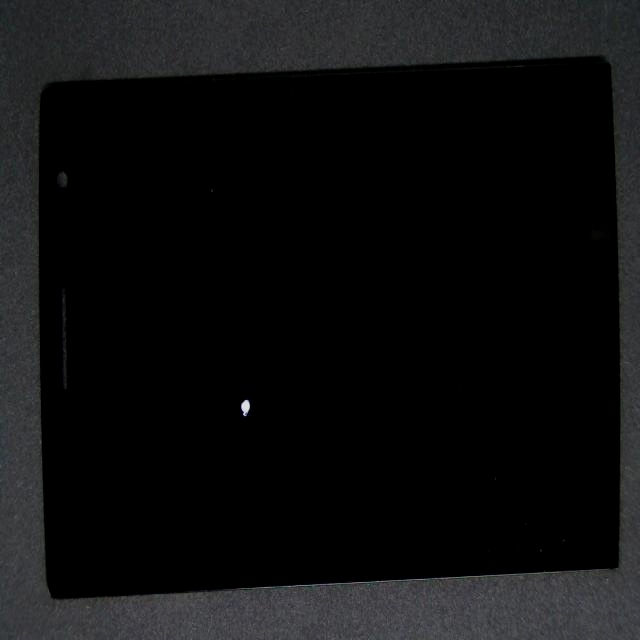stain: (81, 200, 361, 637)
